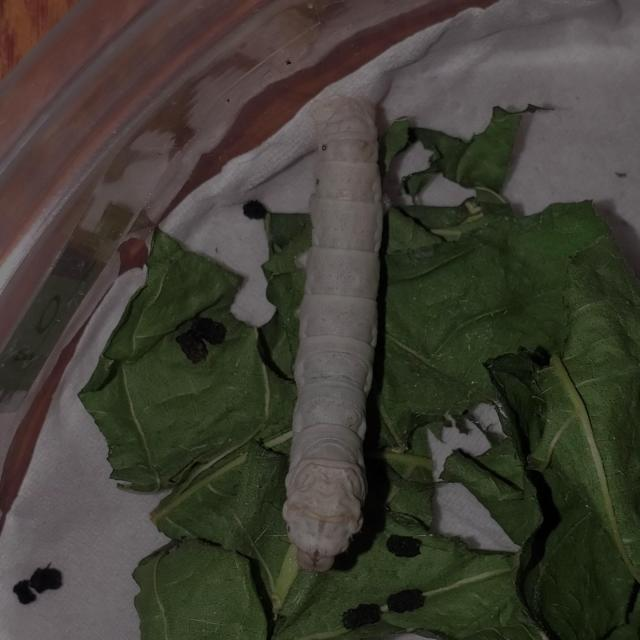Healthy: (252, 52, 410, 589)
